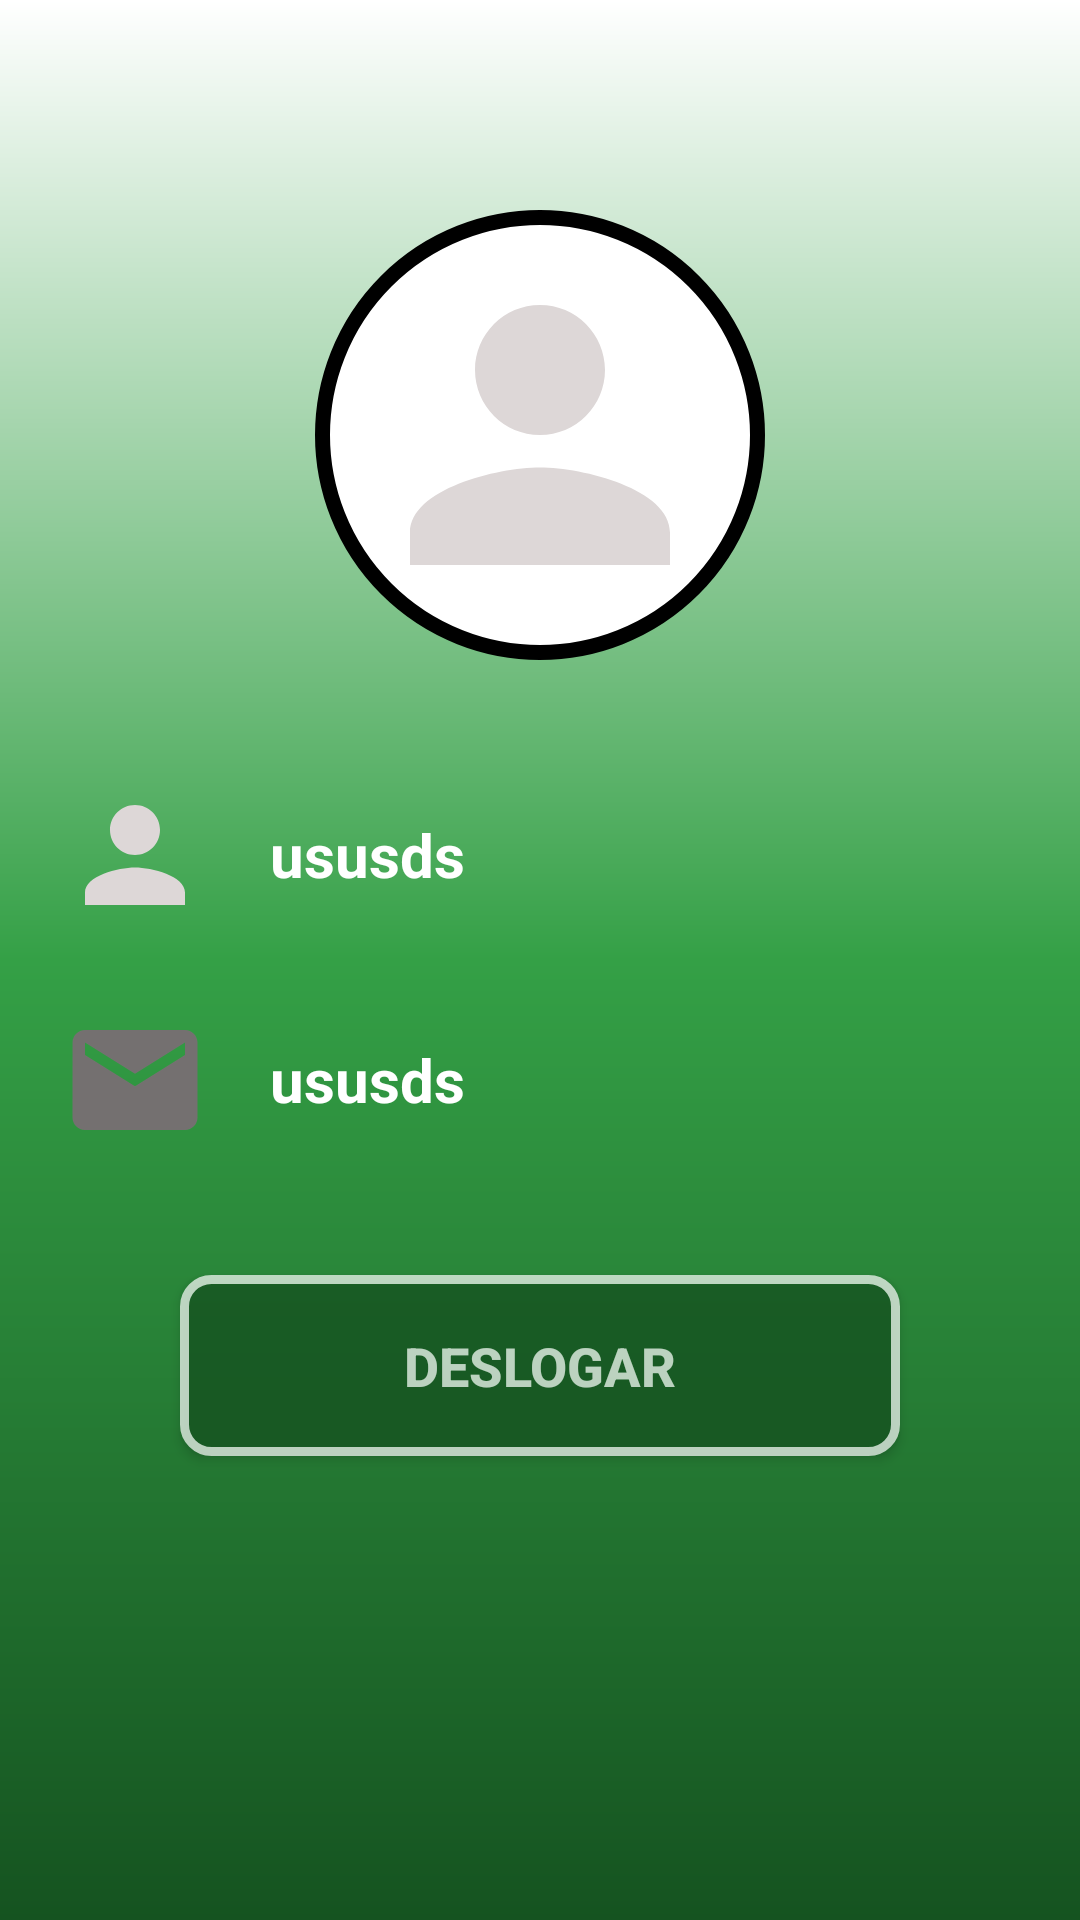

Where to tap for icons on this 1080*1920 app screen, as (x=x, y=y):
email: (x=135, y=1080)
